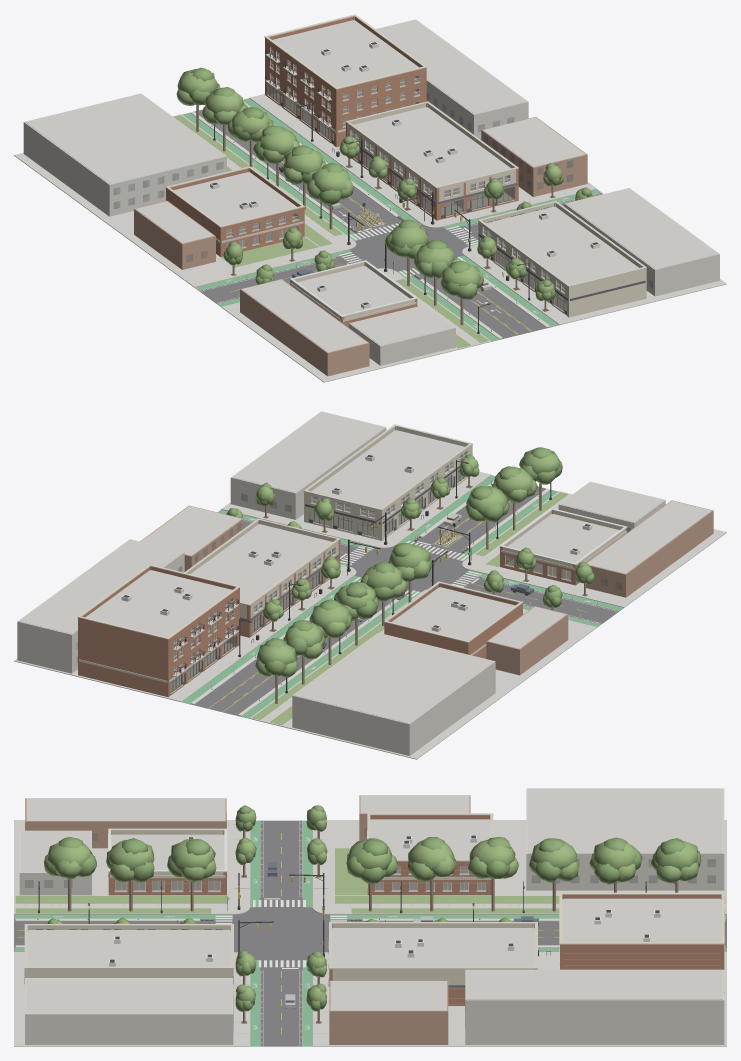
Rendered from clay-road-diet-complete-street-clay-v003.glb.
3 renders of one model, top to bottom at view 1: azimuth 30°, elevation 25°; view 2: azimuth 150°, elevation 25°; view 3: azimuth 270°, elevation 25°, orthographic. The views are drawn at different scales.
Parts seen in each view (by area): view 1: CLAY_MEMBRANE, CLAY_CONCRETE, CLAY_CONTEXT, CLAY_WALL, CLAY_TREE, CLAY_ASPHALT, CLAY_NEIGHBOUR, CLAY_GLASS, CLAY_GREEN, CLAY_TREE2, CLAY_CREAM, CLAY_STONE (+10 smaller); view 2: CLAY_MEMBRANE, CLAY_CONTEXT, CLAY_WALL, CLAY_CONCRETE, CLAY_TREE, CLAY_ASPHALT, CLAY_NEIGHBOUR, CLAY_TREE2, CLAY_GREEN, CLAY_CREAM, CLAY_STONE, CLAY_GLASS (+10 smaller); view 3: CLAY_MEMBRANE, CLAY_CONTEXT, CLAY_CONCRETE, CLAY_TREE, CLAY_ASPHALT, CLAY_WALL, CLAY_NEIGHBOUR, CLAY_GRASS, CLAY_TREE2, CLAY_GREEN, CLAY_CREAM, CLAY_STONE (+10 smaller).
Part boxes in pixels (box(x1,y1,x2,y2)): CLAY_MEMBRANE: box(25, 20, 717, 352); CLAY_CONCRETE: box(14, 94, 726, 382); CLAY_CONTEXT: box(23, 19, 719, 365); CLAY_WALL: box(166, 16, 518, 327); CLAY_TREE: box(176, 69, 592, 300); CLAY_ASPHALT: box(190, 109, 708, 380); CLAY_NEIGHBOUR: box(134, 116, 587, 376); CLAY_GLASS: box(113, 48, 652, 310); CLAY_GREEN: box(182, 98, 600, 341); CLAY_TREE2: box(177, 67, 591, 299); CLAY_CREAM: box(264, 14, 515, 321); CLAY_STONE: box(165, 53, 646, 315); CLAY_MEMBRANE: box(19, 412, 711, 723); CLAY_CONTEXT: box(17, 411, 665, 755); CLAY_WALL: box(78, 510, 626, 697); CLAY_CONCRETE: box(14, 471, 726, 759); CLAY_TREE: box(226, 448, 594, 677); CLAY_ASPHALT: box(52, 486, 624, 758); CLAY_NEIGHBOUR: box(140, 500, 713, 675); CLAY_TREE2: box(227, 447, 588, 676); CLAY_GREEN: box(182, 475, 623, 718); CLAY_CREAM: box(77, 510, 626, 682); CLAY_STONE: box(170, 424, 571, 694); CLAY_GLASS: box(77, 451, 630, 691); CLAY_MEMBRANE: box(21, 788, 722, 1013); CLAY_CONTEXT: box(19, 788, 724, 1044); CLAY_CONCRETE: box(14, 820, 726, 1046); CLAY_TREE: box(44, 806, 698, 1011); CLAY_ASPHALT: box(14, 820, 726, 1046); CLAY_WALL: box(108, 815, 724, 1005); CLAY_NEIGHBOUR: box(25, 795, 470, 1044); CLAY_GRASS: box(15, 848, 725, 913); CLAY_TREE2: box(47, 805, 701, 1011); CLAY_GREEN: box(14, 820, 726, 1046); CLAY_CREAM: box(108, 830, 724, 993); CLAY_STONE: box(24, 813, 559, 1001).
Bounding box in the file's own units: 96 × 14.33 × 128.
